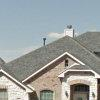Chimney: (53, 17, 80, 43)
